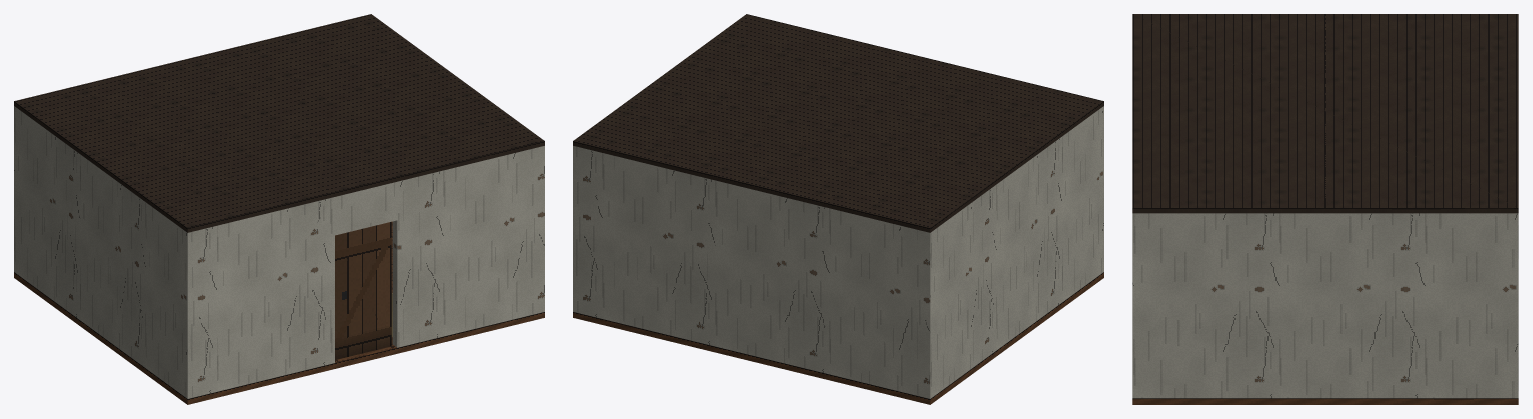
The model's file is casa_ze.glb.
3 views of the same model, side by side, from view 1: azimuth 30°, elevation 25°; view 2: azimuth 150°, elevation 25°; view 3: azimuth 270°, elevation 25° (orthographic). The views are drawn at different scales.
Visible parts, largest first — view 1: sala-col, teto-col; view 2: sala-col, teto-col; view 3: teto-col, sala-col.
Boxes of the visible parts, left/top/right/bottom form: sala-col: left=14, top=106, right=544, bottom=404; teto-col: left=14, top=14, right=544, bottom=232; sala-col: left=573, top=106, right=1103, bottom=404; teto-col: left=573, top=14, right=1103, bottom=232; teto-col: left=1132, top=14, right=1518, bottom=213; sala-col: left=1132, top=213, right=1518, bottom=404.
Size of the model in its own units: 6.3 by 2.98 by 5.3.
9 materials, 9 textured.
